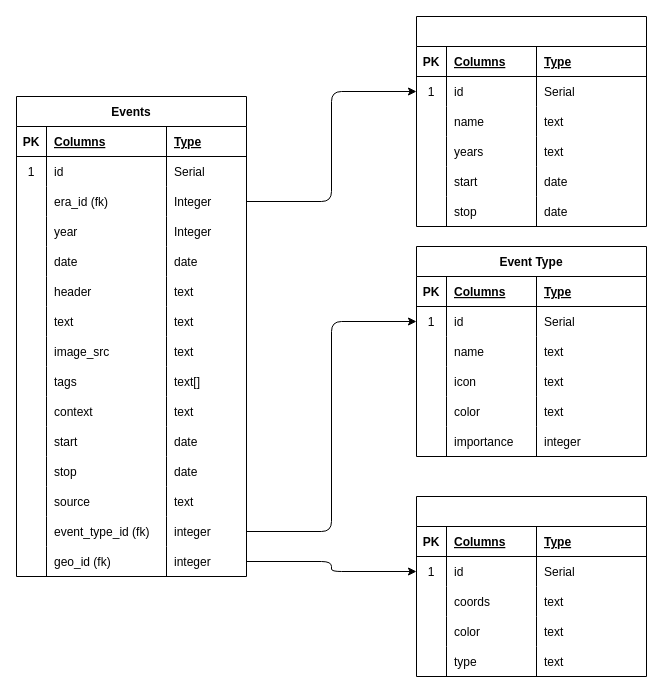
This 663x693 diagram has some shape labels left out. Here are the shapes that lost their labels. From the top down, the box of each, then its label:
(416, 16, 646, 226): Eras
(416, 496, 646, 676): Geo
